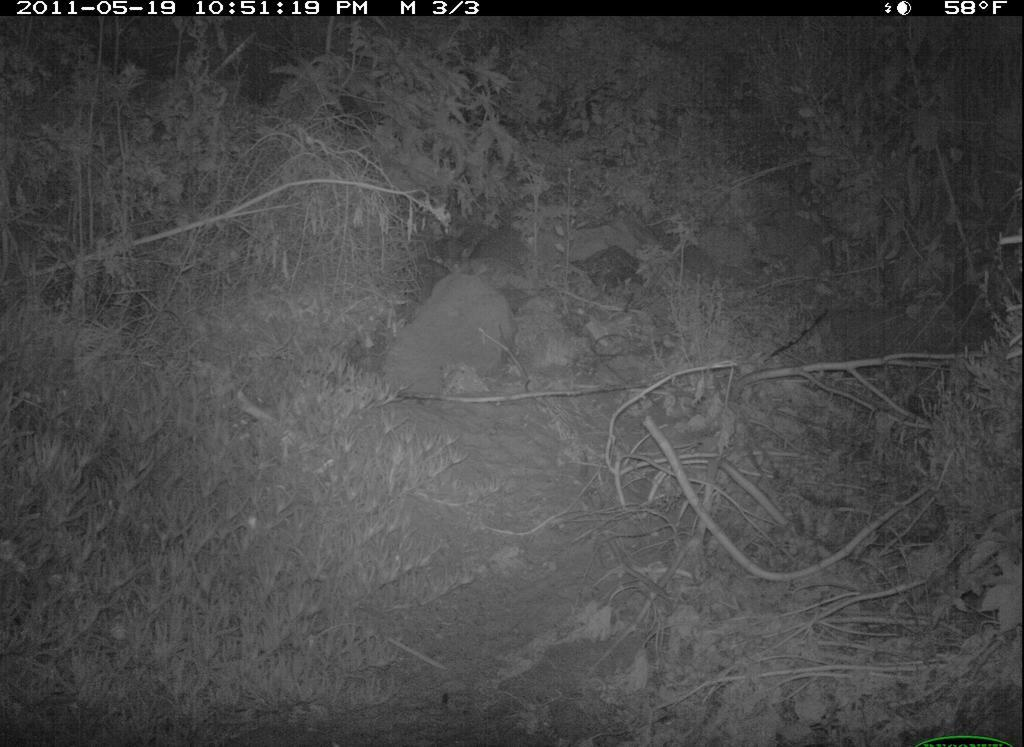raccoon: (359, 235, 559, 441)
